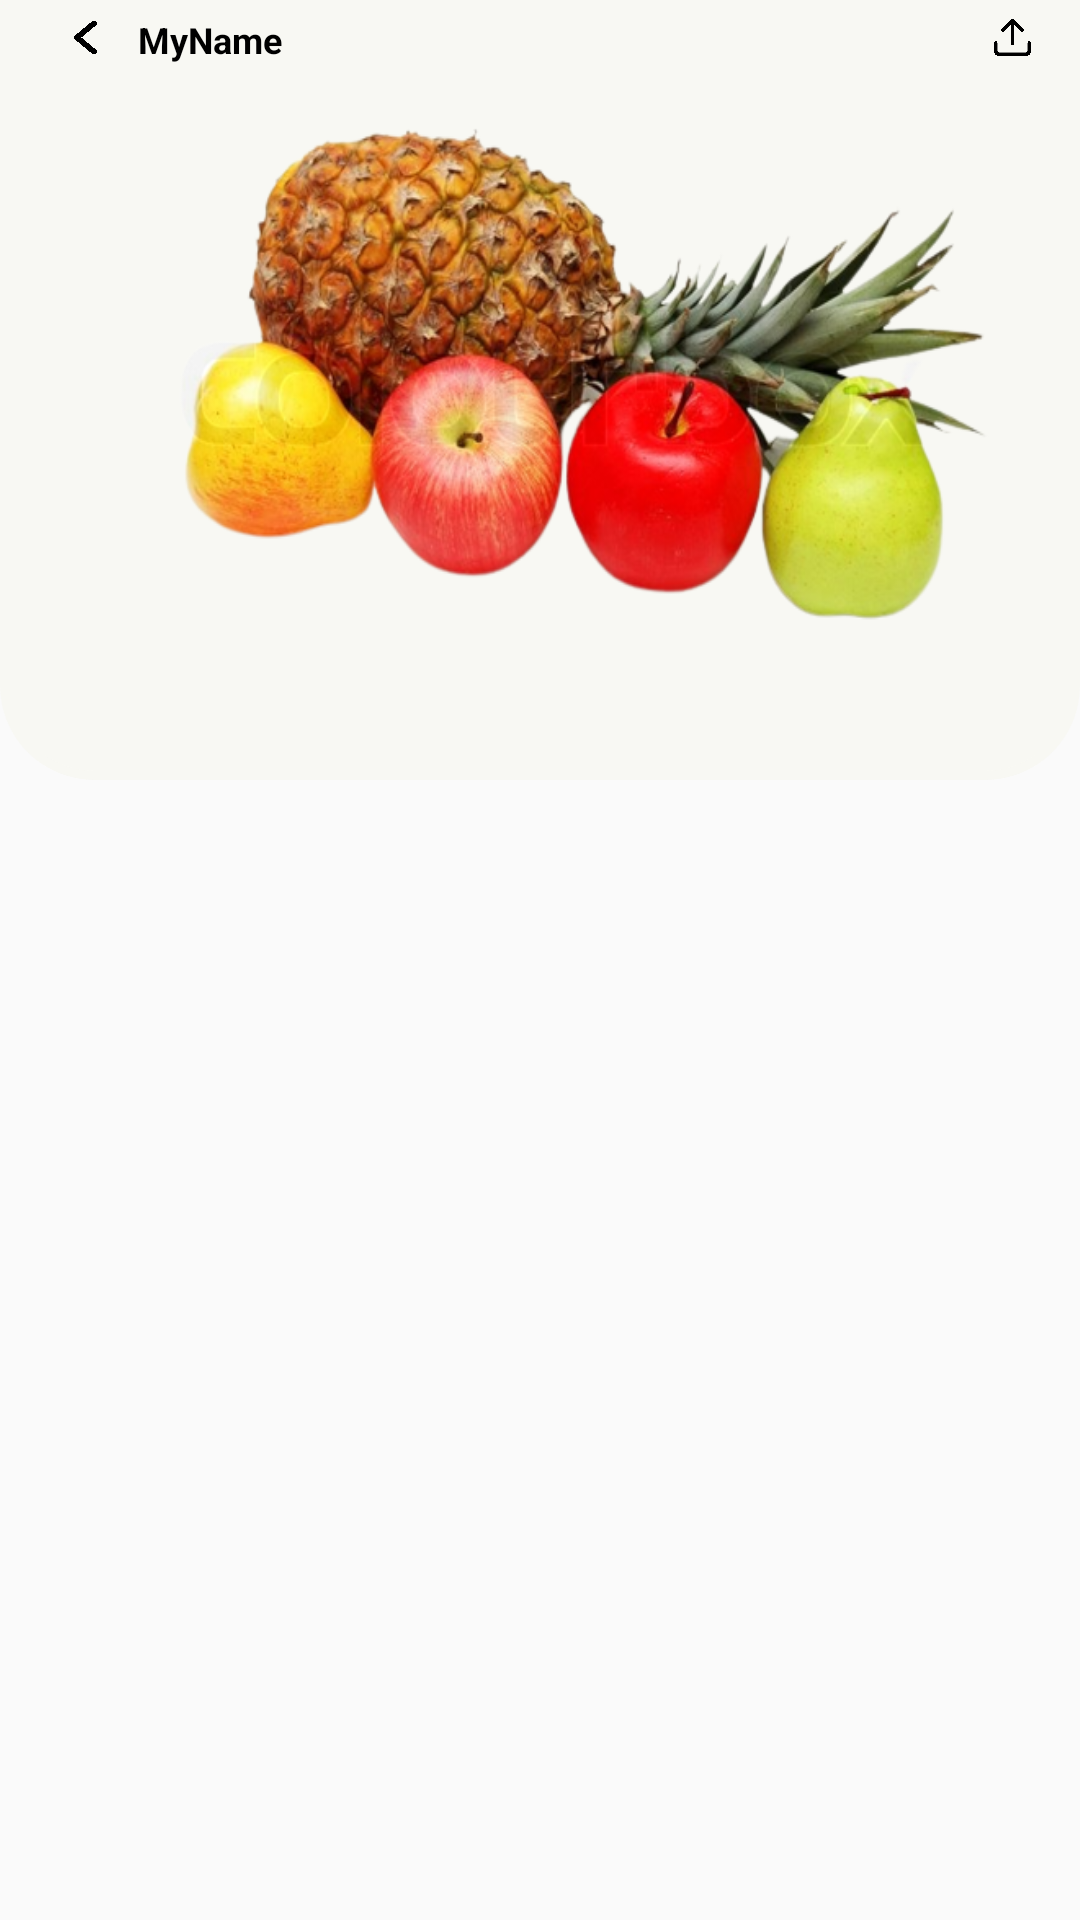

Icon bounding boxes for this 1080 × 1920 phone screenshot, format (x1, y1, x2, y2):
arrow back: (74, 21, 97, 54)
upload: (994, 19, 1031, 56)
